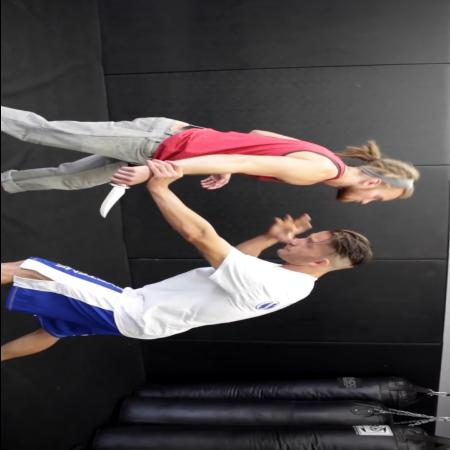long weapon: (90, 158, 147, 222)
